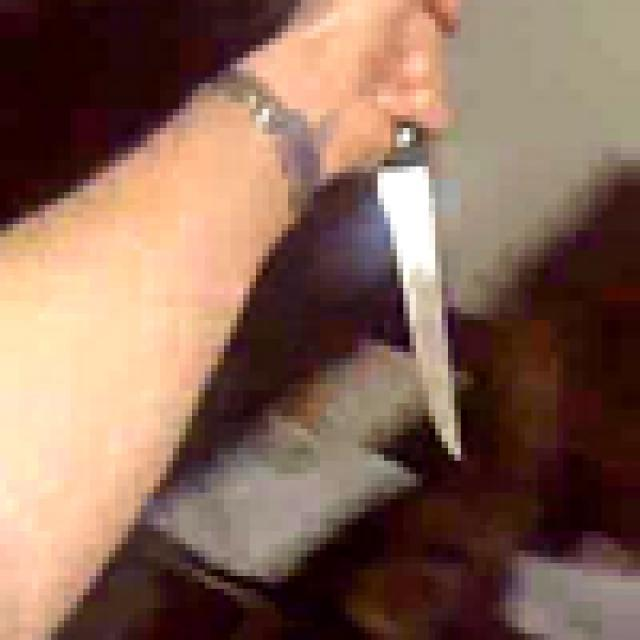Knife: (304, 6, 483, 474)
